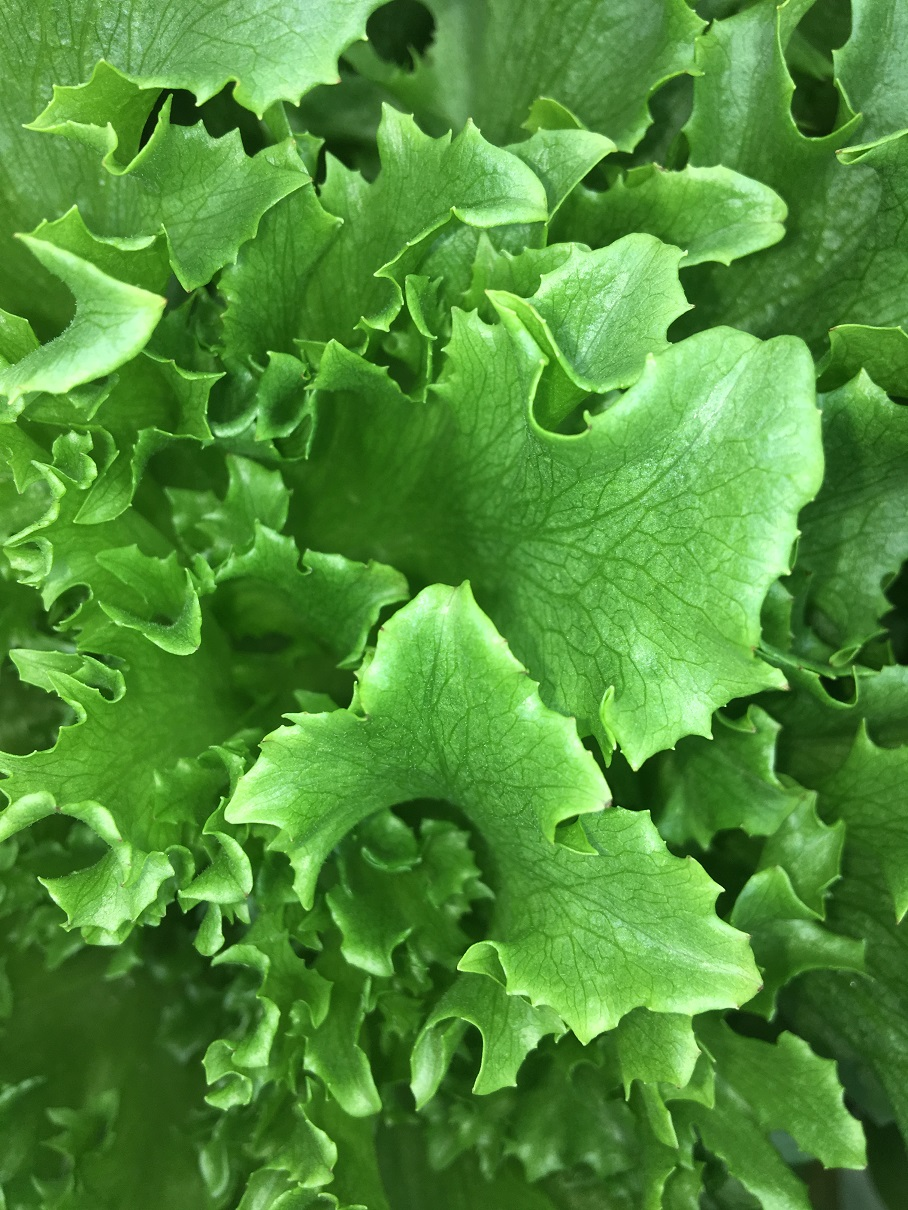tipburn: (588, 779, 637, 833), (566, 405, 611, 450), (280, 358, 327, 398), (362, 609, 404, 650), (826, 132, 864, 174), (769, 663, 805, 705), (813, 308, 847, 348), (635, 155, 677, 187), (219, 1031, 258, 1063), (746, 970, 777, 1007)
